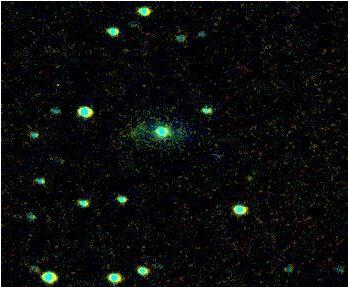star: (233, 162, 263, 192)
